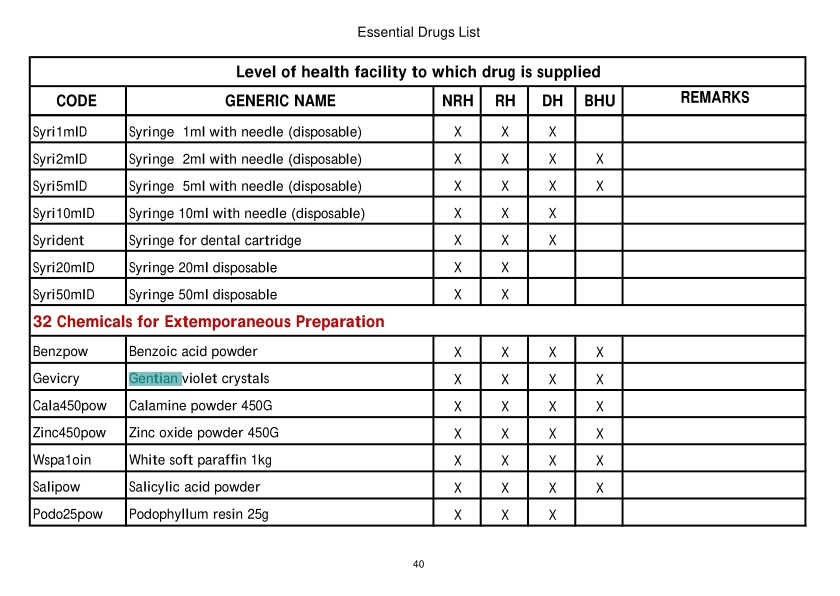merged_cells: (27, 55, 807, 527)
